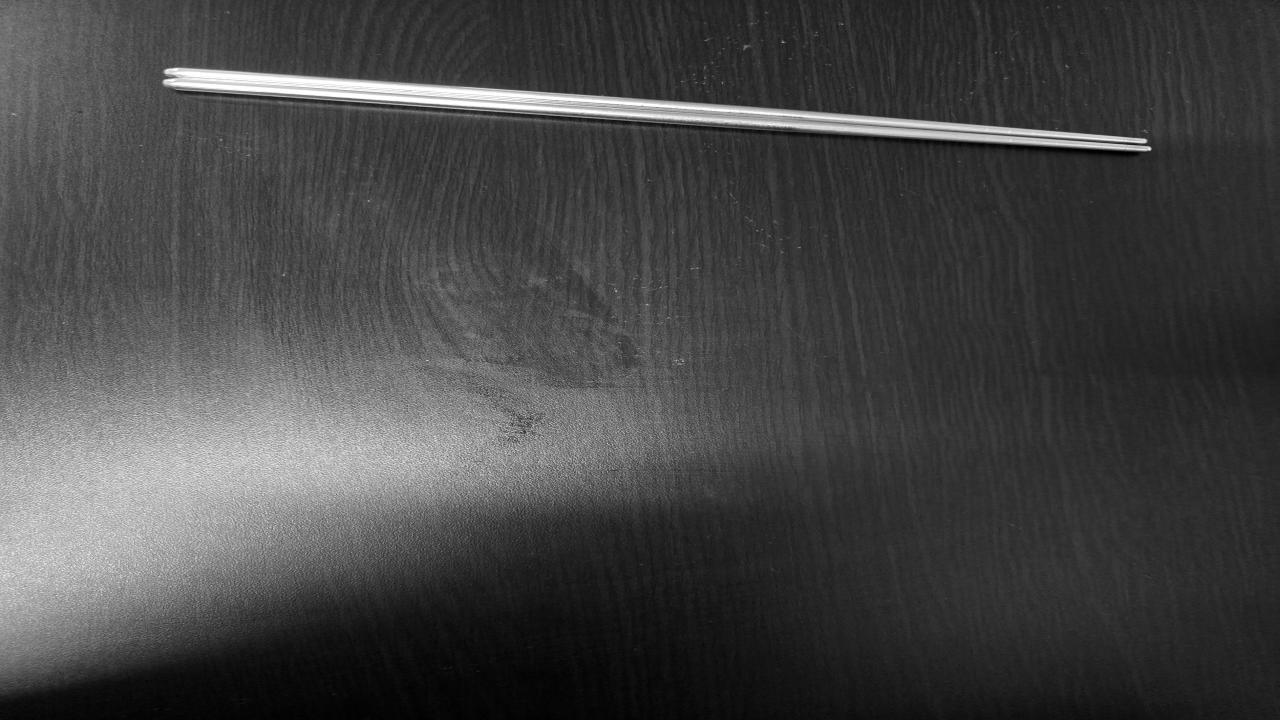chopstick: (164, 66, 1154, 154)
